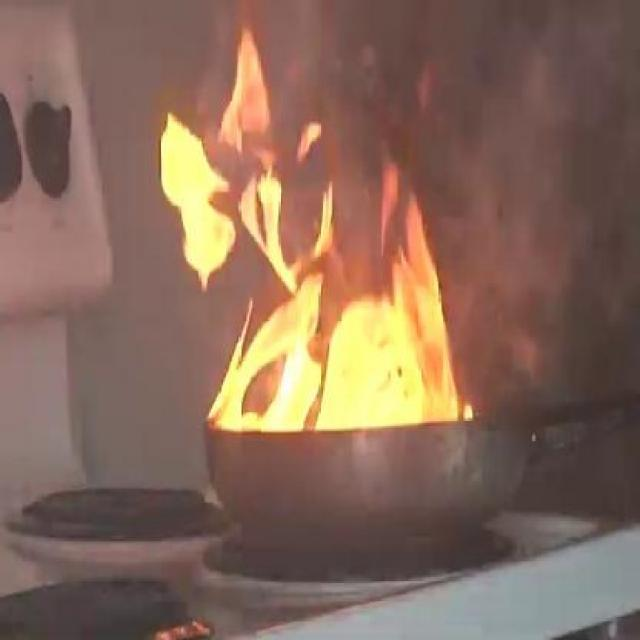fire: (156, 21, 490, 428)
